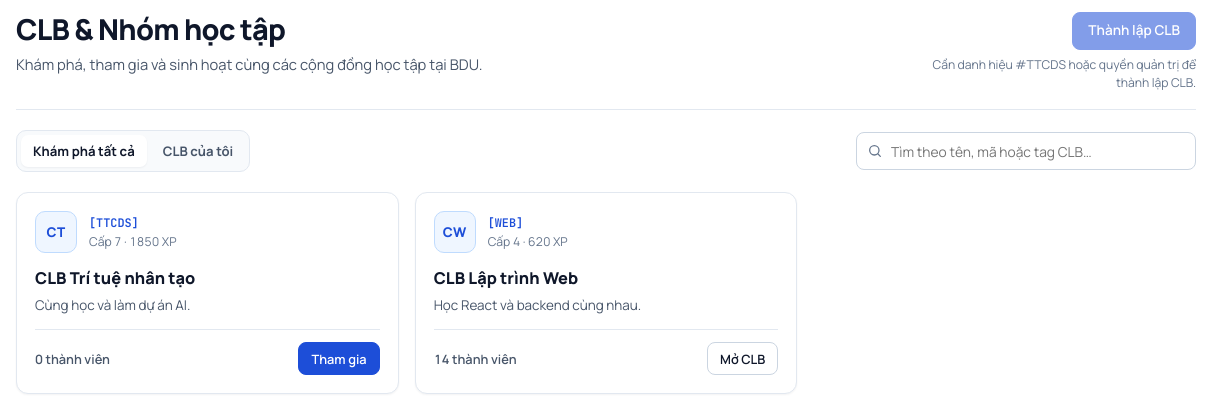
Test: ClubDirectoryPage › filters clubs by scope (mine/all) and search keyword
This screenshot has width=1213, height=411.
Check: the button "CLB Trí tuệ nhân tạo" is shown, box [35,267,195,289]
Check: the button "CLB Lập trình Web" is shown, box [434,267,578,289]
Click the button "CLB của tôi": click(198, 151) [151,135,245,167]
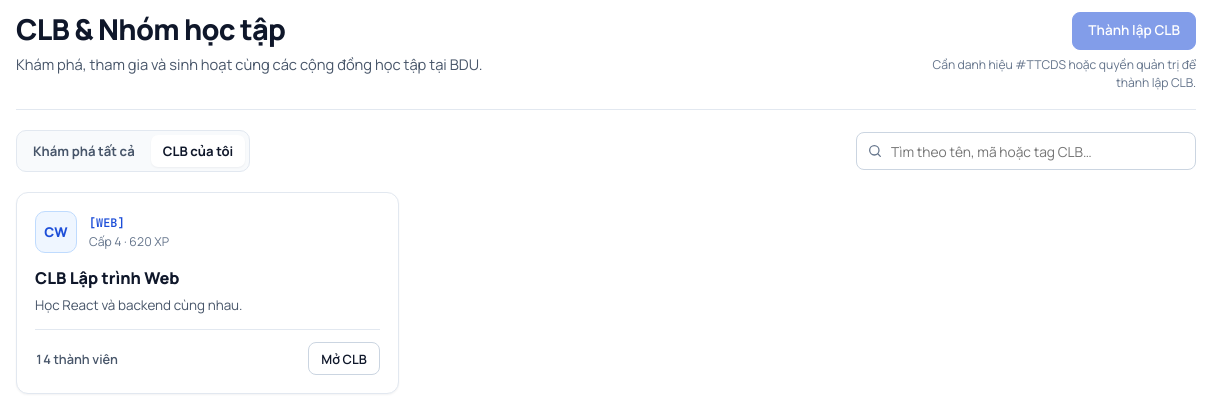
Check: the button "CLB Lập trình Web" is shown, box [35,267,180,289]
Check: the button "CLB Trí tuệ nhân tạo" is gone
Click the button "Khám phá tất cả": click(84, 151) [21,135,147,167]
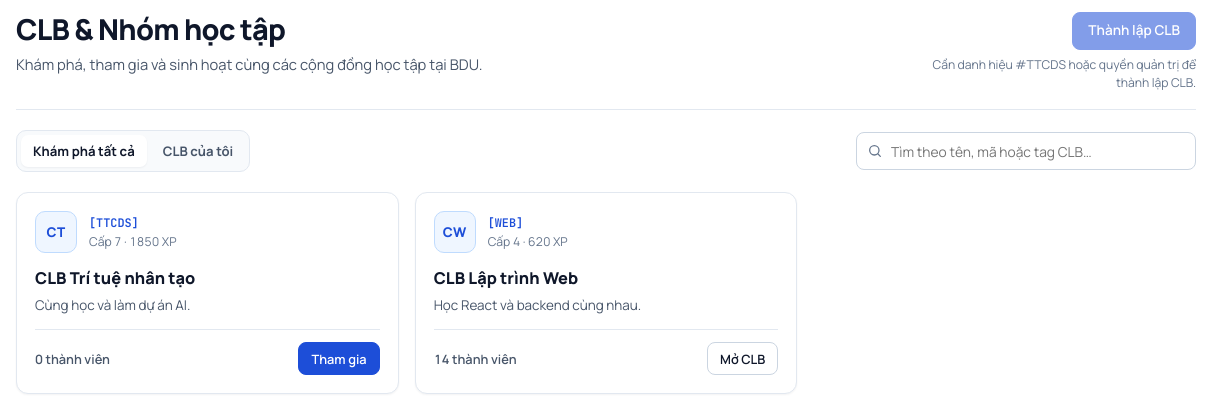
In the search field named "Tìm CLB hoặc nhóm học tập": (1026, 151) [856,132,1196,170], type "CLB_AI"
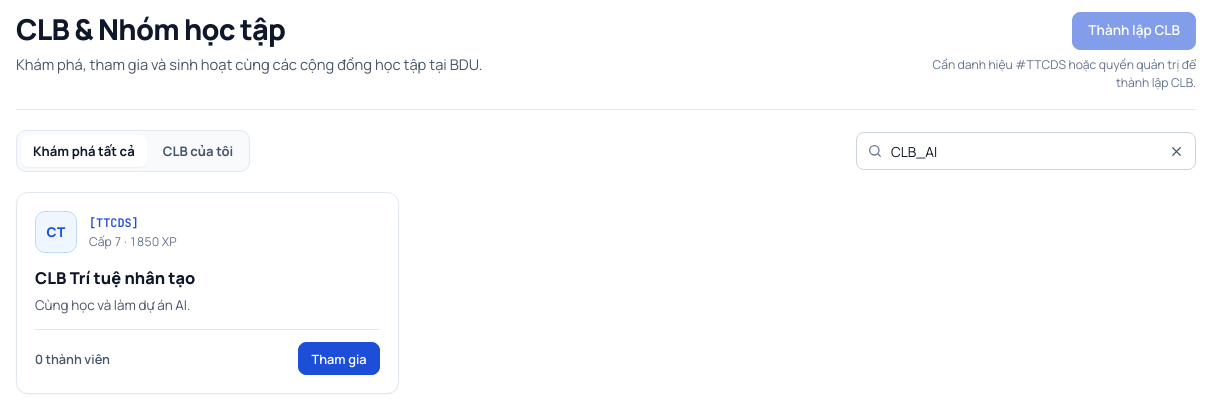
Check: the button "CLB Trí tuệ nhân tạo" is shown, box [35,267,195,289]
Check: the button "CLB Lập trình Web" is gone
